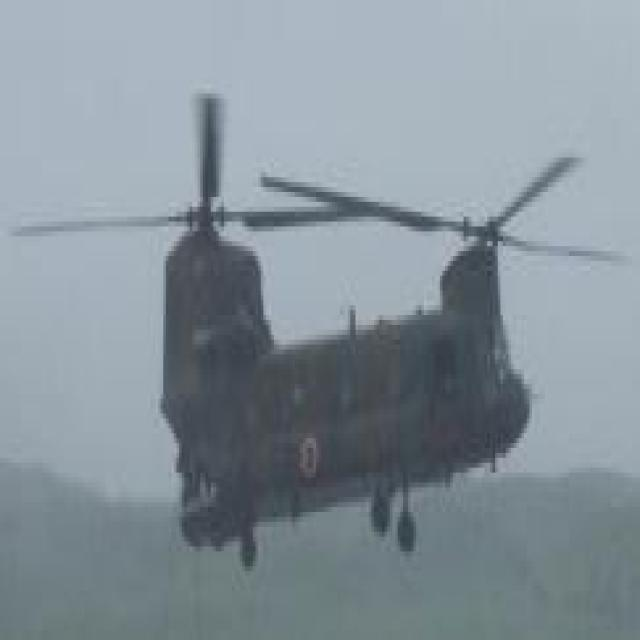Helicopter: (134, 101, 558, 544)
